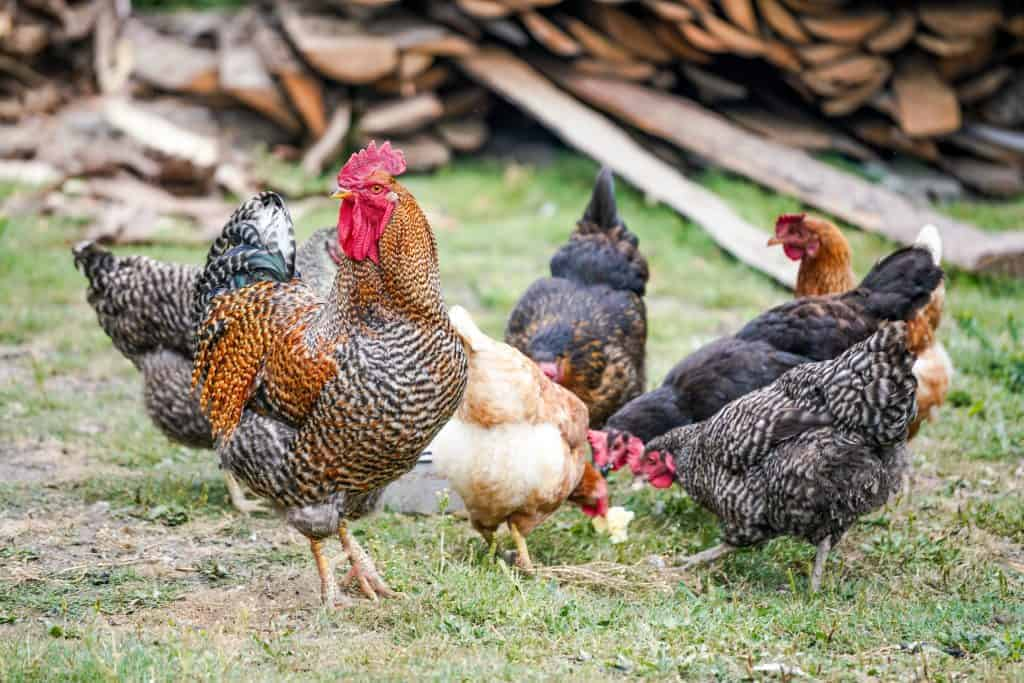Healthy: (180, 134, 479, 627), (645, 327, 928, 606)
